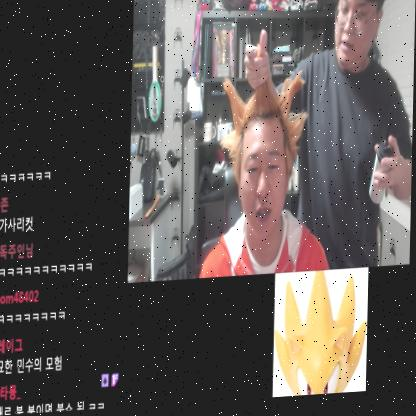streamer: (240, 0, 416, 277), (199, 42, 332, 281)
